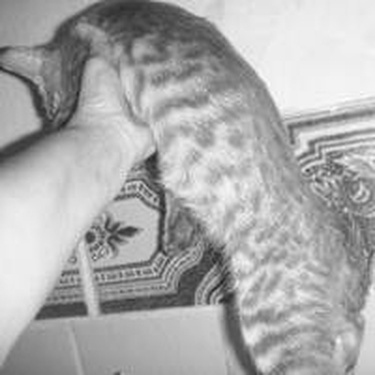cat: (3, 4, 366, 373)
